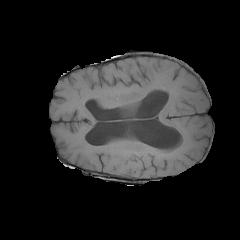glioma: (82, 131, 188, 157)
